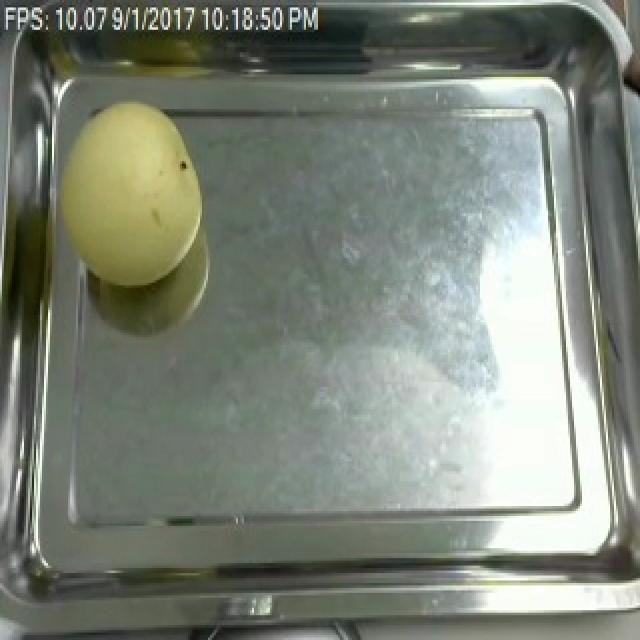Fruit: (44, 89, 214, 295)
